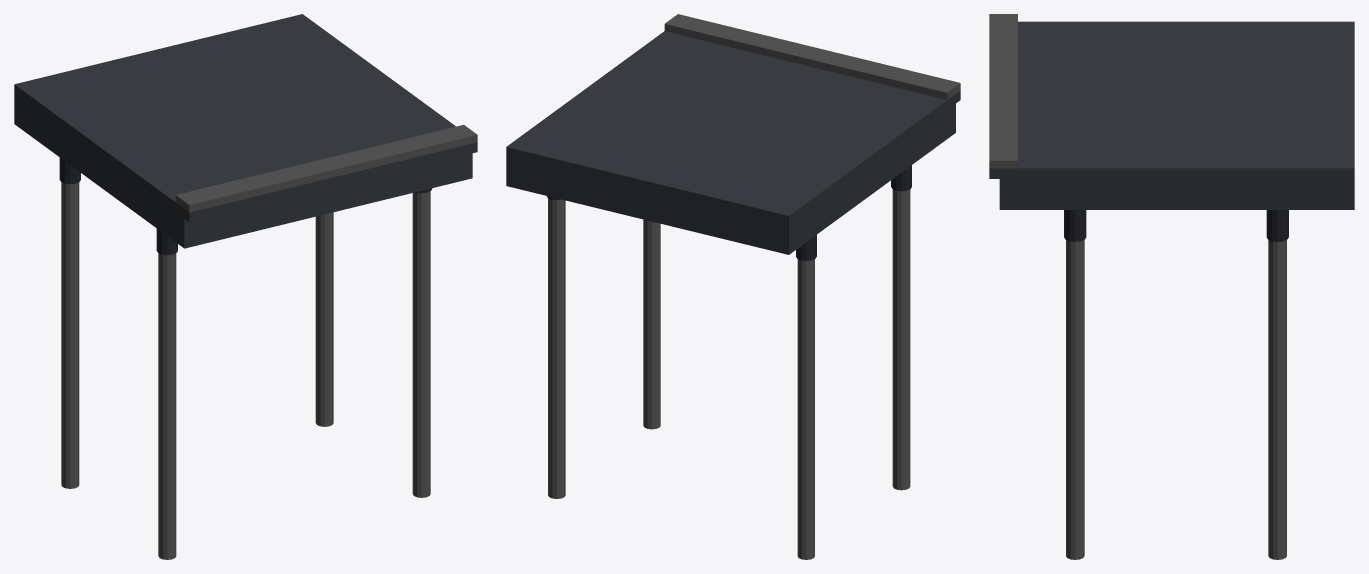
Rendered from PortGround_3.fbx.
3 views of the same model, side by side, from view 1: azimuth 30°, elevation 25°; view 2: azimuth 150°, elevation 25°; view 3: azimuth 270°, elevation 25° (orthographic). The views are drawn at different scales.
Parts seen in each view (by area): view 1: PortGround_3; view 2: PortGround_3; view 3: PortGround_3.
Boxes of the visible parts, x1,y1,x2,y2 form: PortGround_3: (14, 14, 477, 559); PortGround_3: (506, 14, 960, 559); PortGround_3: (989, 14, 1354, 559).
Size of the model in its own units: 1516 by 1940 by 1595.
